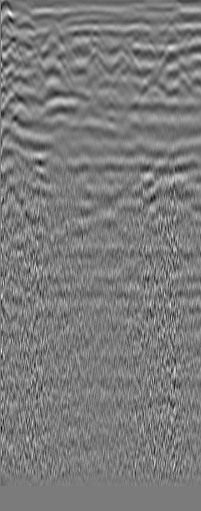오수: (13, 6, 33, 26)
우수: (160, 41, 180, 61)
